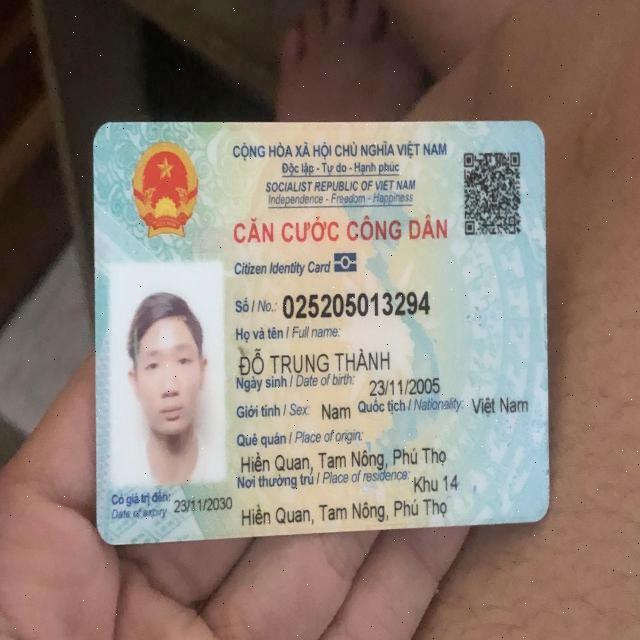current_place: (236, 497, 448, 528), (411, 470, 461, 495)
dob: (366, 369, 444, 398)
expire_date: (171, 495, 237, 513)
gender: (316, 401, 355, 426)
id: (279, 288, 436, 319)
name: (236, 342, 394, 372)
nationality: (466, 394, 535, 423)
origin_place: (239, 448, 447, 474)
